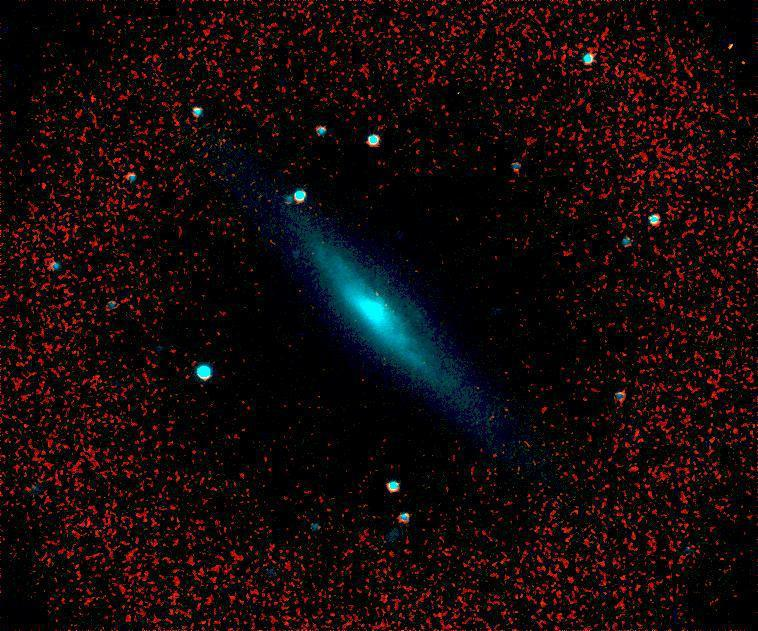star: (411, 348, 441, 378)
